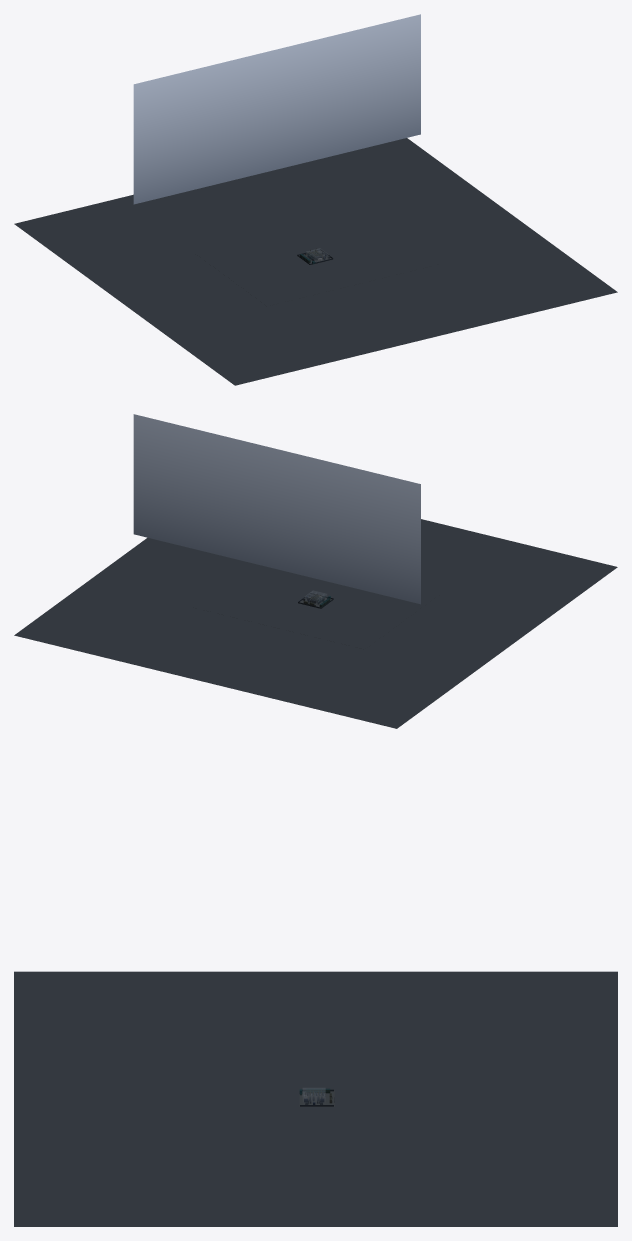
File: building-scene.glb
3 views of the same model, one above another, from view 1: azimuth 30°, elevation 25°; view 2: azimuth 150°, elevation 25°; view 3: azimuth 270°, elevation 25° (orthographic). The views are drawn at different scales.
Visible parts, largest first — view 1: ext-ground, backdrop, parcel; view 2: ext-ground, backdrop, parcel; view 3: ext-ground, parcel.
Boxes of the visible parts, x1,y1,x2,y2 form: ext-ground: (14, 138, 617, 385); backdrop: (133, 14, 420, 204); parcel: (193, 209, 438, 306); ext-ground: (14, 519, 617, 728); backdrop: (133, 414, 420, 604); parcel: (193, 563, 438, 649); ext-ground: (14, 971, 617, 1226); parcel: (214, 1041, 417, 1156).
Size of the model in its own units: 400 by 180 by 400.
Materials: 22 (19 with a texture image).
